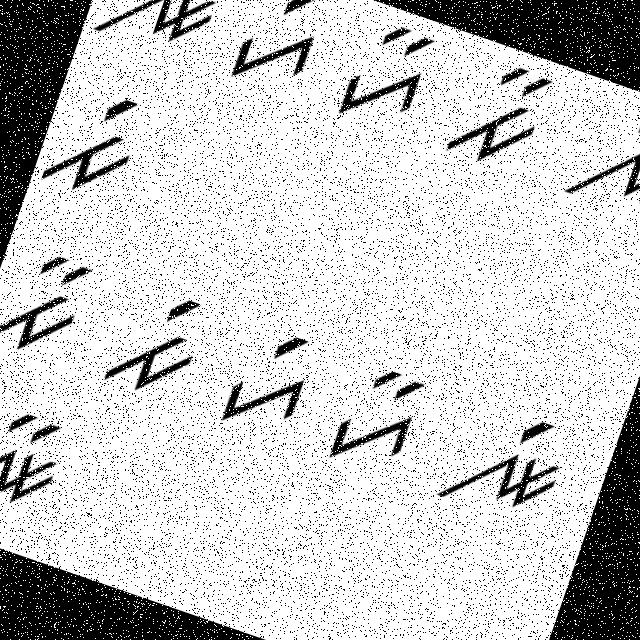han: (319, 352, 442, 486), (331, 10, 445, 142)
hang: (212, 312, 326, 447), (218, 0, 337, 101)
mban: (443, 48, 565, 187), (0, 234, 101, 370)
mbang: (30, 73, 156, 216), (94, 273, 219, 411)
ndan: (0, 384, 81, 533), (559, 86, 639, 236)
ndang: (435, 392, 582, 540), (89, 0, 236, 70)
